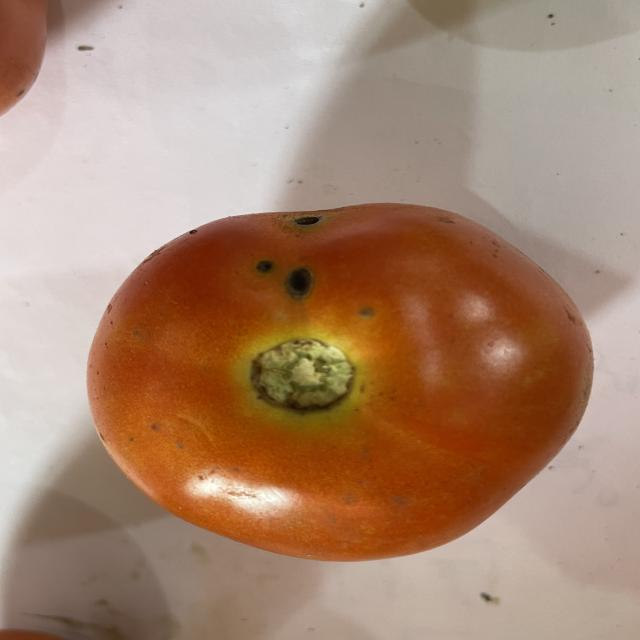fruitworm_bore: (249, 208, 333, 306)
